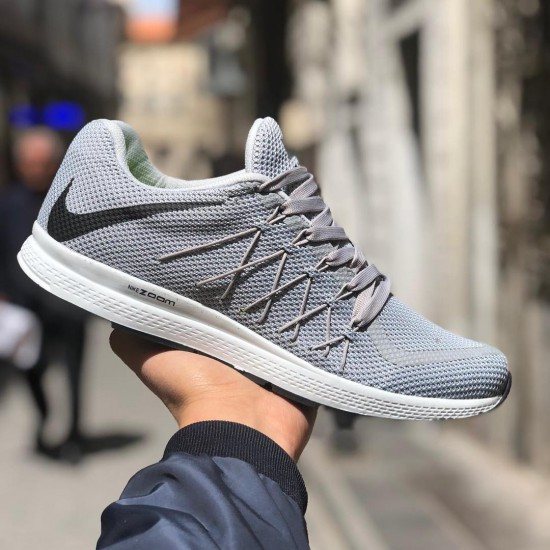nike: (47, 179, 231, 245)
